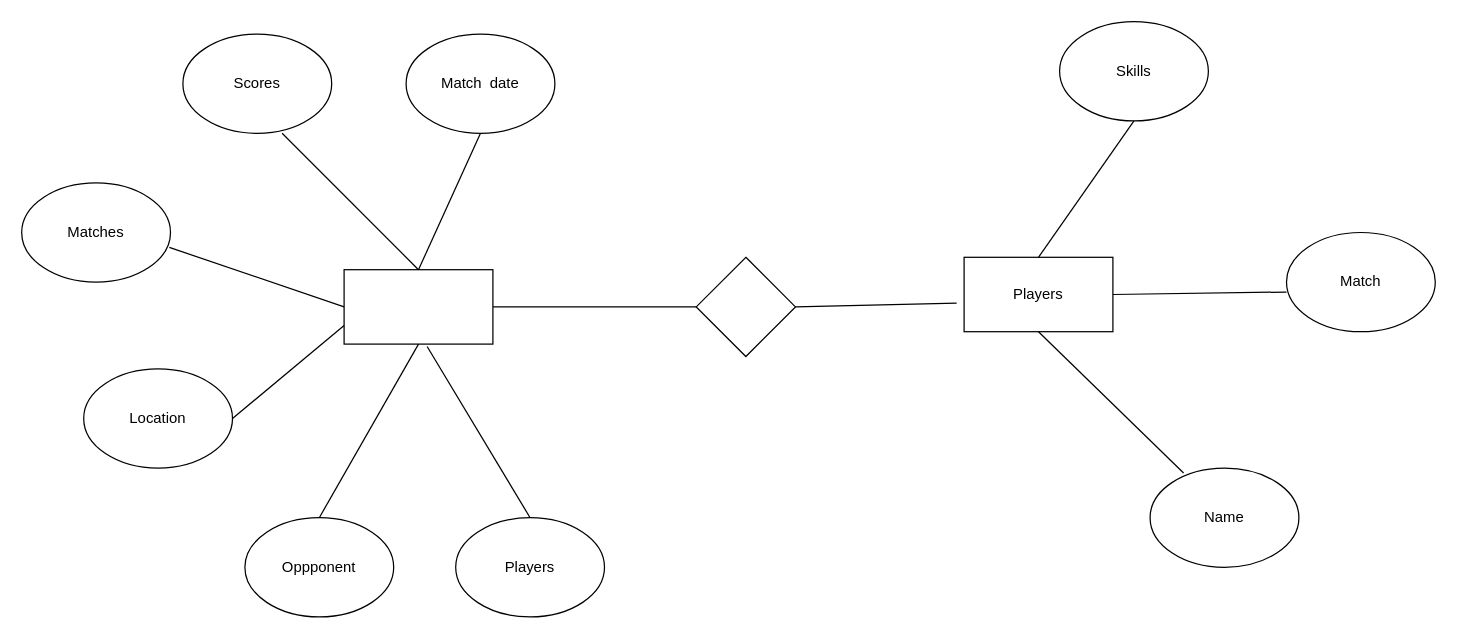
Image size: 1457x639. Some labels were removed from this diagram. Each missing label, with the centre of its shape:
Belongs to: pixel 745 306
Team: pixel 418 306
